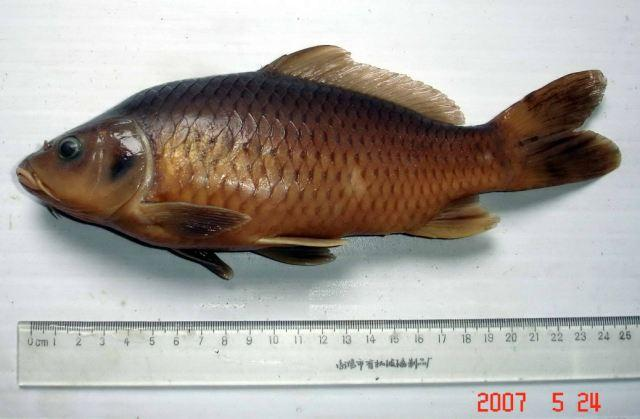Mulut: (2, 140, 68, 236)
Sirip Anal: (416, 188, 504, 240)
Sirip Dada: (143, 200, 257, 240), (171, 243, 236, 283)
Sirip Ekor: (483, 71, 621, 187)
Sirip Perut: (251, 233, 350, 269)
Sirip Punggung: (256, 43, 471, 124)
